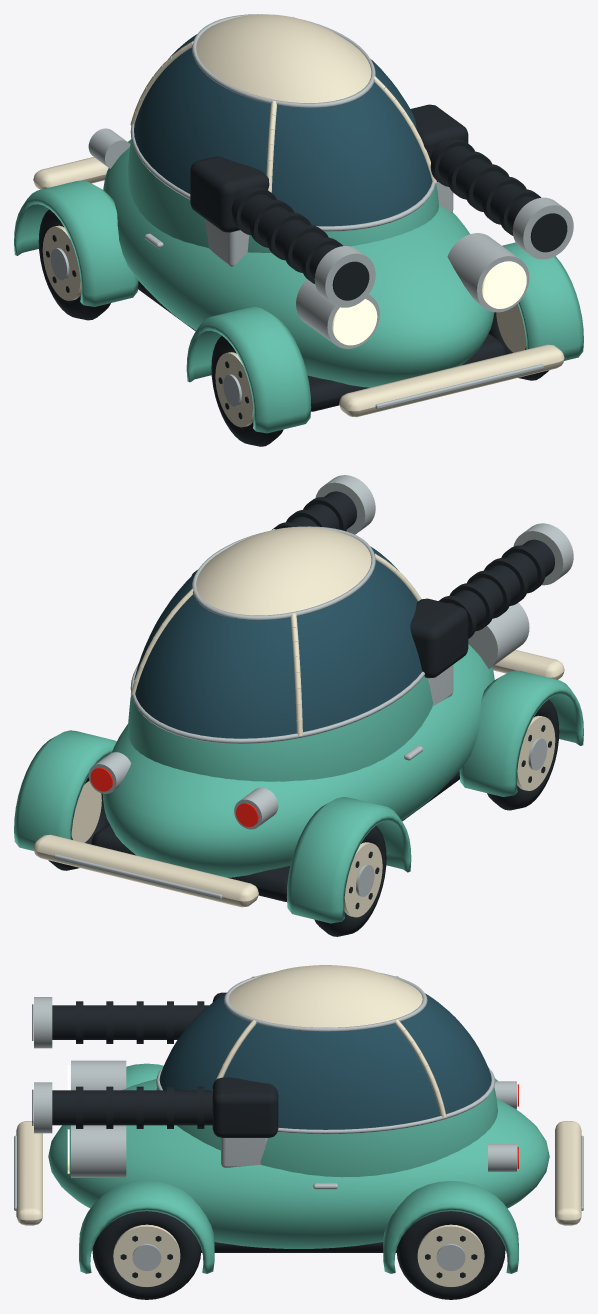
File: bubble-briefing.glb
3 renders of one model, top to bottom at view 1: azimuth 30°, elevation 25°; view 2: azimuth 150°, elevation 25°; view 3: azimuth 270°, elevation 25°, orthographic. The views are drawn at different scales.
Visible parts, largest first — view 1: canopy, fender_left, bonnet, gun_left, roof, door_left, gun_right, body, lights_front, bumper_front, fender_right, wheel_fl (+5 smaller); view 2: canopy, fender_left, boot, roof, gun_left, door_left, body, fender_right, bumper_rear, gun_right, wheel_rl, wheel_fl (+4 smaller); view 3: canopy, door_right, gun_right, fender_right, roof, body, wheel_fr, wheel_rr, gun_left, lights_front, boot, bonnet (+4 smaller).
Boxes of the visible parts, x1=… form: canopy: x1=128, y1=14, x2=438, y2=252; fender_left: x1=14, y1=180, x2=311, y2=433; bonnet: x1=303, y1=221, x2=493, y2=359; gun_left: x1=190, y1=156, x2=375, y2=307; roof: x1=196, y1=14, x2=371, y2=103; door_left: x1=104, y1=165, x2=303, y2=346; gun_right: x1=410, y1=104, x2=573, y2=259; body: x1=119, y1=241, x2=506, y2=411; lights_front: x1=296, y1=233, x2=529, y2=348; bumper_front: x1=339, y1=344, x2=564, y2=417; fender_right: x1=502, y1=242, x2=583, y2=360; wheel_fl: x1=211, y1=336, x2=283, y2=446; canopy: x1=128, y1=526, x2=432, y2=781; fender_left: x1=286, y1=670, x2=583, y2=923; boot: x1=102, y1=741, x2=294, y2=849; roof: x1=196, y1=526, x2=371, y2=615; gun_left: x1=410, y1=523, x2=573, y2=705; door_left: x1=294, y1=653, x2=493, y2=836; body: x1=91, y1=731, x2=478, y2=901; fender_right: x1=14, y1=730, x2=116, y2=850; bumper_rear: x1=33, y1=834, x2=258, y2=907; gun_right: x1=191, y1=475, x2=375, y2=575; wheel_rl: x1=314, y1=826, x2=386, y2=936; wheel_fl: x1=487, y1=699, x2=559, y2=810; canopy: x1=156, y1=973, x2=497, y2=1177; door_right: x1=125, y1=1128, x2=472, y2=1214; gun_right: x1=32, y1=1077, x2=278, y2=1167; fender_right: x1=79, y1=1181, x2=518, y2=1273; roof: x1=228, y1=965, x2=422, y2=1027; body: x1=49, y1=1163, x2=548, y2=1252; wheel_fr: x1=92, y1=1211, x2=201, y2=1299; wheel_rr: x1=396, y1=1211, x2=505, y2=1299; gun_left: x1=32, y1=992, x2=226, y2=1048; lights_front: x1=67, y1=1060, x2=126, y2=1177; boot: x1=452, y1=1099, x2=549, y2=1193; bonnet: x1=48, y1=1079, x2=180, y2=1193.
Size of the model in its own units: 1.62 by 1.43 by 2.77.
